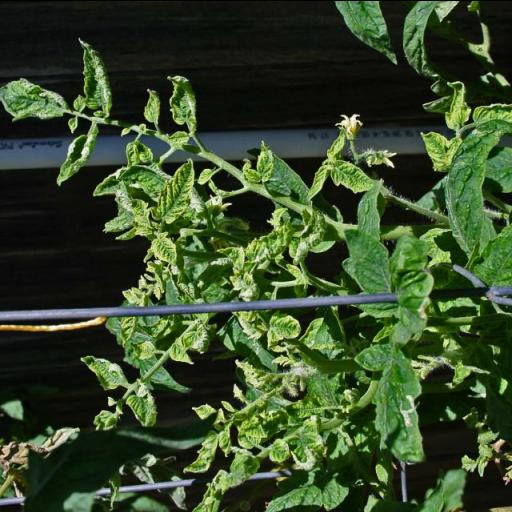disease_tomato: (74, 34, 114, 120), (156, 160, 202, 230), (244, 218, 293, 282), (1, 78, 69, 124), (52, 122, 100, 186), (164, 70, 200, 140), (182, 425, 226, 473), (80, 349, 130, 389), (288, 416, 324, 471), (244, 130, 277, 184), (328, 158, 377, 194), (418, 134, 462, 172), (124, 191, 156, 239), (442, 78, 472, 128), (265, 310, 306, 346), (146, 226, 180, 268), (127, 388, 161, 428), (234, 408, 266, 450), (139, 80, 165, 126), (270, 432, 296, 463), (167, 337, 192, 369), (130, 336, 156, 358)
